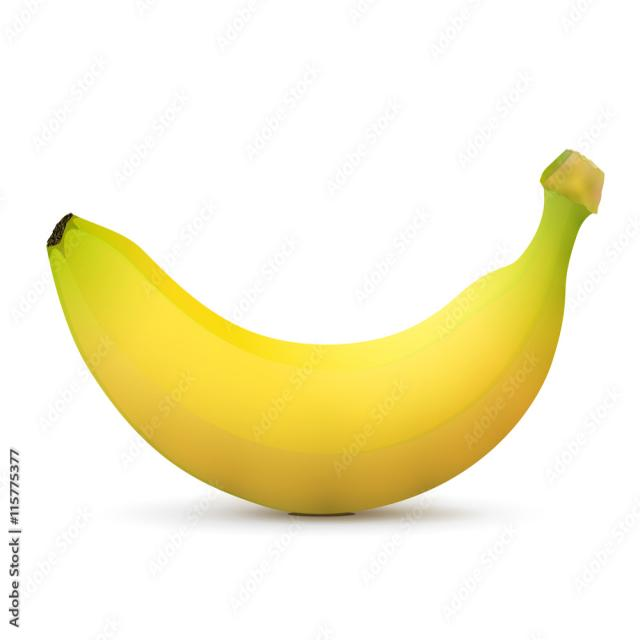non_orange: (40, 140, 611, 534)
